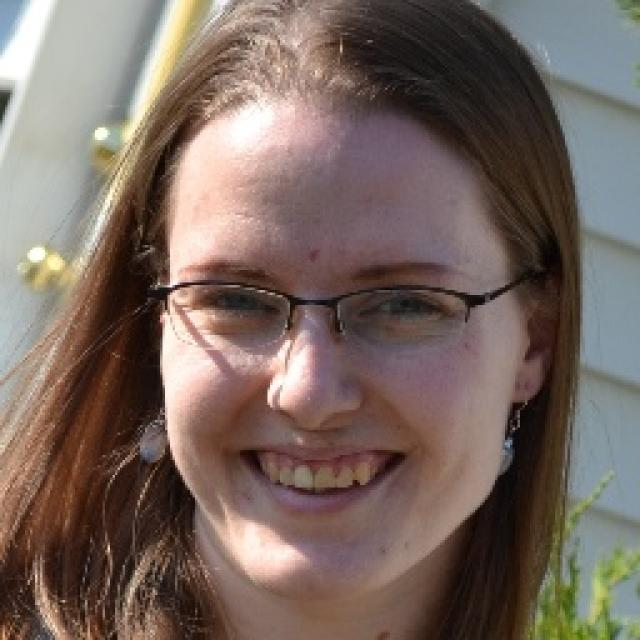earlobe: (512, 269, 564, 405)
